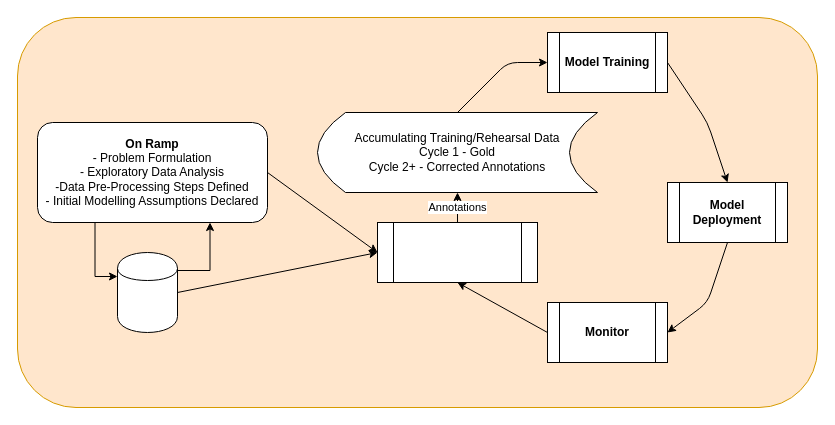
Image size: 835x425. Some labels were removed from this diagram. Each missing label, with the box of its shape:
EMR: (116, 252, 178, 332)
PieVal Label Capture(Iter 1) Label Test(Iter 2-N): (376, 222, 538, 282)
